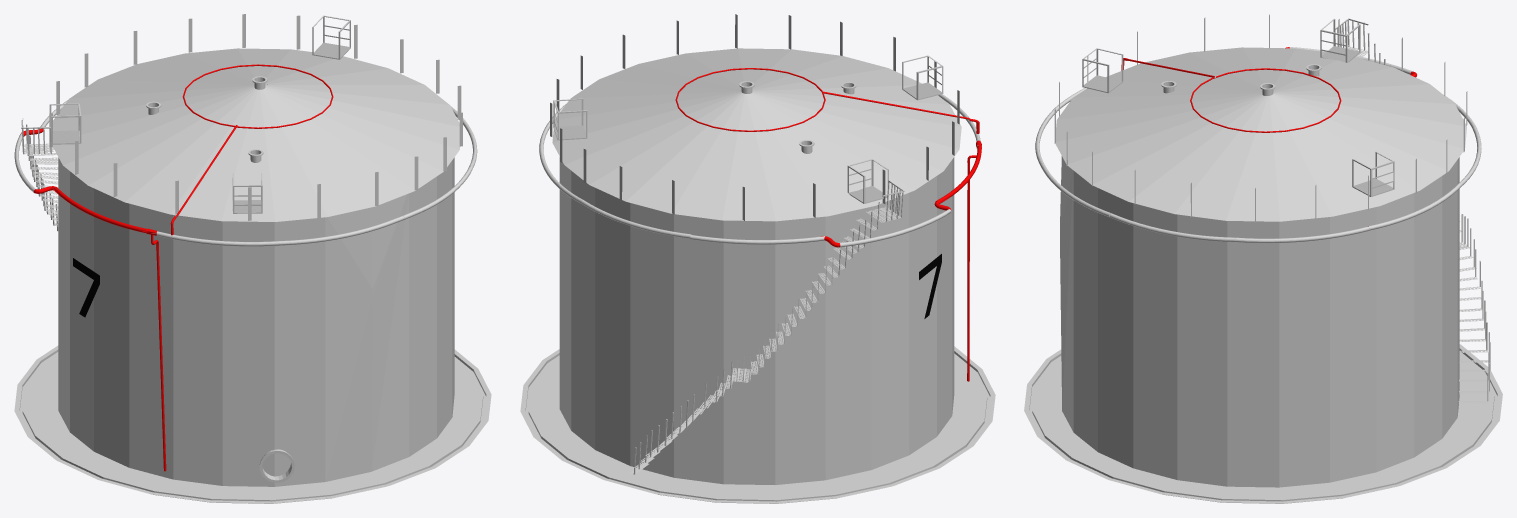
The model's file is bonchua(test1).glb.
3 views of the same model, side by side, from view 1: azimuth 30°, elevation 25°; view 2: azimuth 150°, elevation 25°; view 3: azimuth 270°, elevation 25° (orthographic).
Visible parts, largest first — view 1: _(Loose Entity); view 2: _(Loose Entity); view 3: _(Loose Entity).
Boxes of the visible parts, x1,y1,x2,y2 form: _(Loose Entity): (14, 14, 491, 503); _(Loose Entity): (520, 14, 995, 503); _(Loose Entity): (1024, 14, 1502, 503).
Size of the model in its own units: 19.2 by 14.29 by 19.19.
5 materials, 1 textured.
